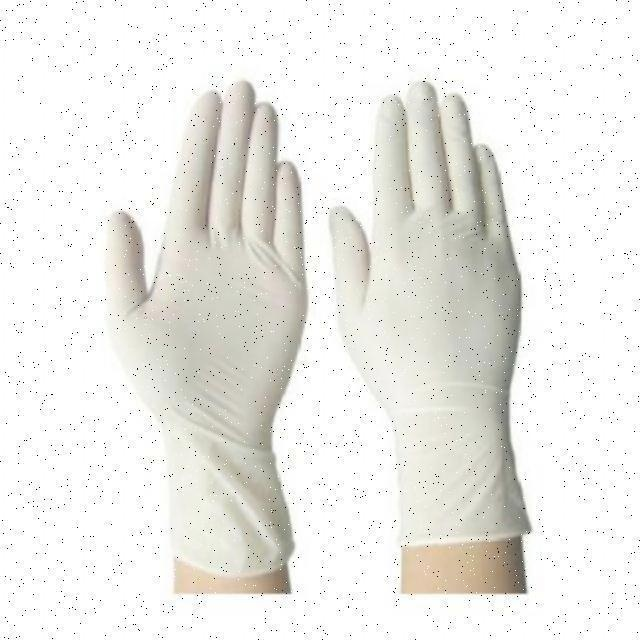Guantes: (327, 78, 532, 594), (103, 78, 308, 593)
